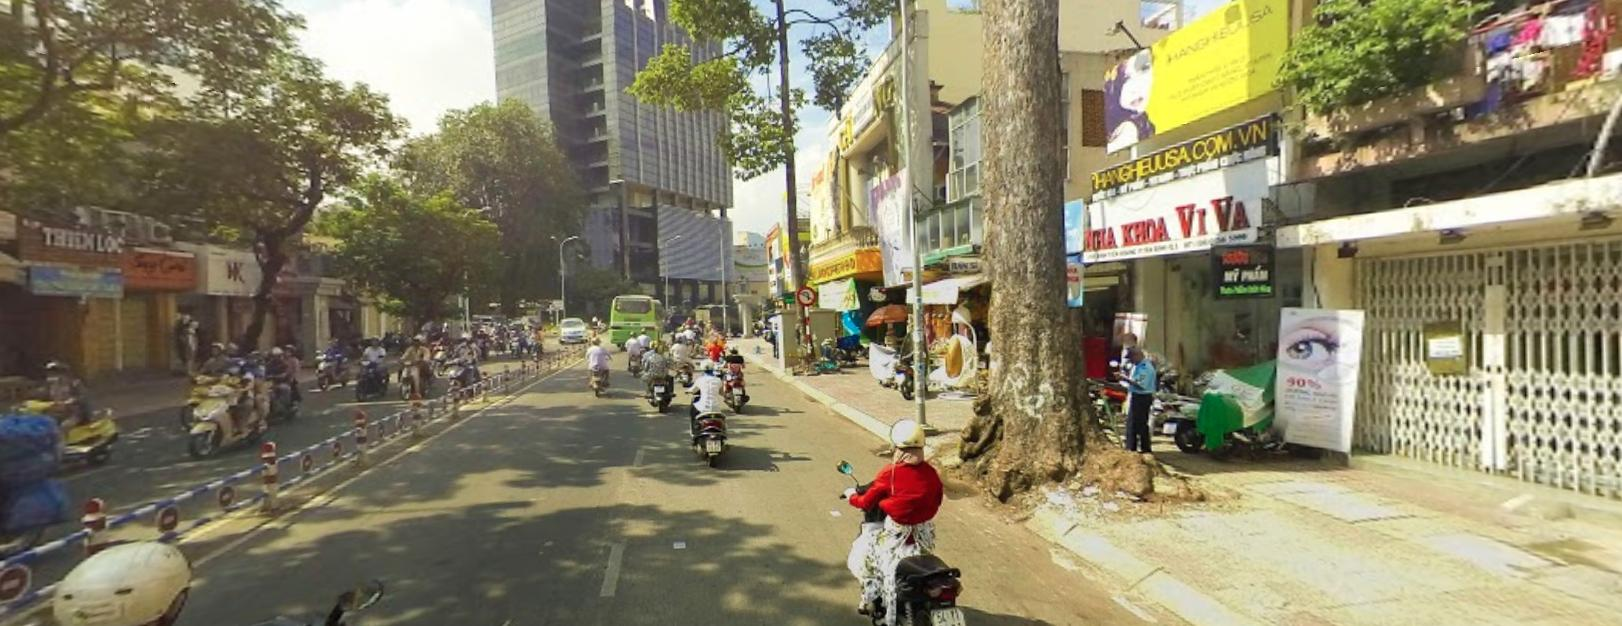Cam re: (795, 284, 814, 304)
